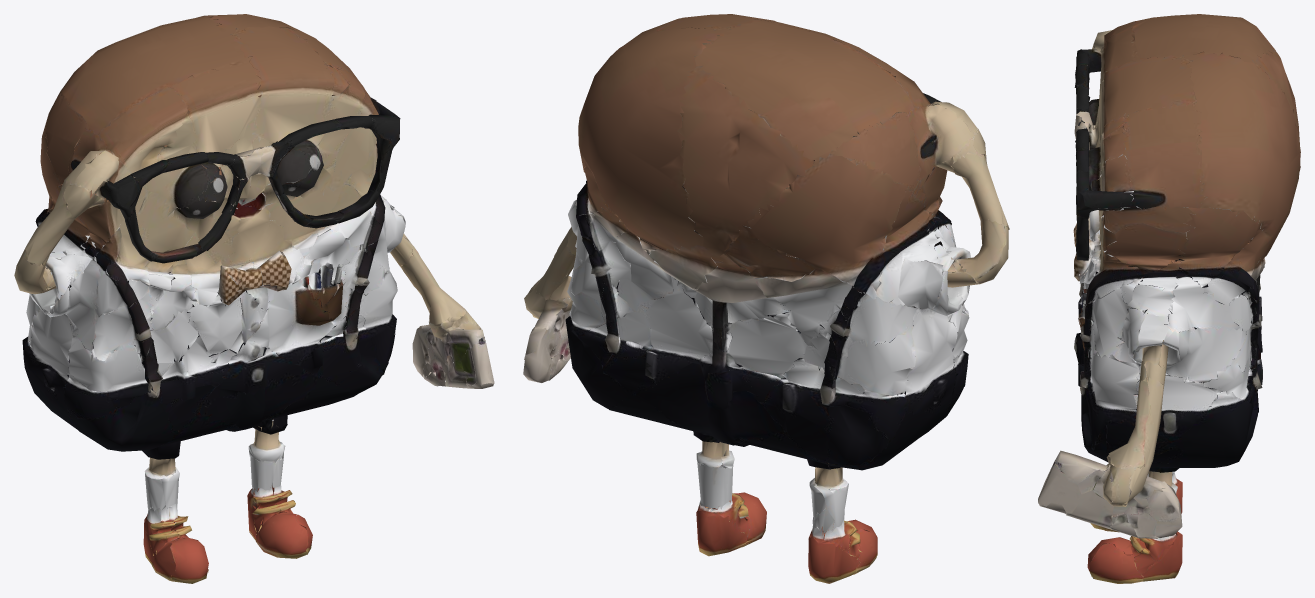
Rendered from nerdy-buddy.glb.
3 renders of one model, left to right at view 1: azimuth 30°, elevation 25°; view 2: azimuth 150°, elevation 25°; view 3: azimuth 270°, elevation 25°, orthographic. The views are drawn at different scales.
Visible parts, largest first — view 1: Mesh_0; view 2: Mesh_0; view 3: Mesh_0.
Boxes of the visible parts, x1,y1,x2,y2 form: Mesh_0: (14, 14, 494, 583); Mesh_0: (523, 14, 1009, 583); Mesh_0: (1038, 14, 1300, 583).
Bounding box in the file's own units: 1.8 × 1.9 × 0.8866.
1 material, 1 textured.
